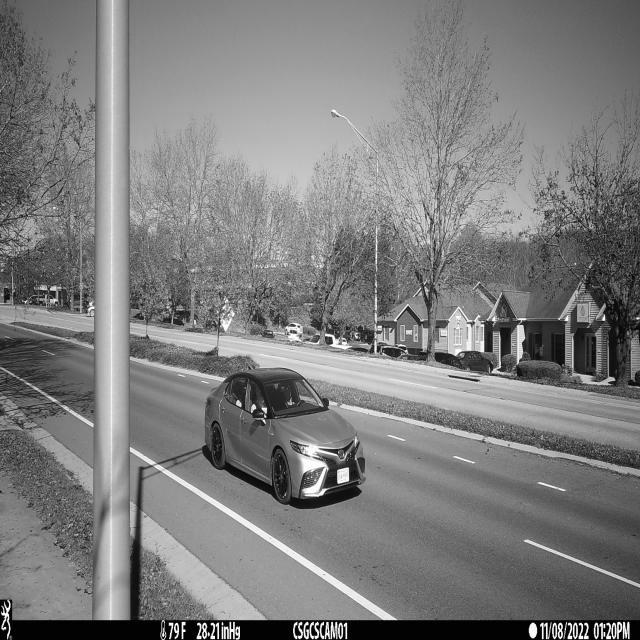Sedan: (205, 367, 366, 504)
